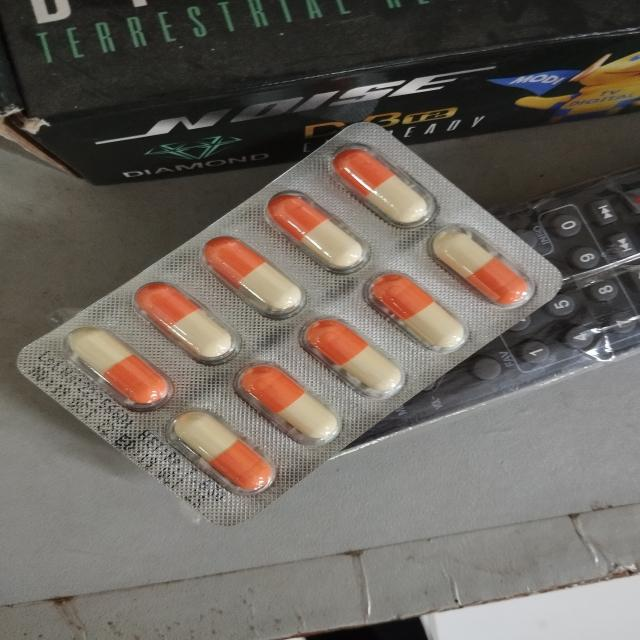B3: (16, 120, 565, 526)
